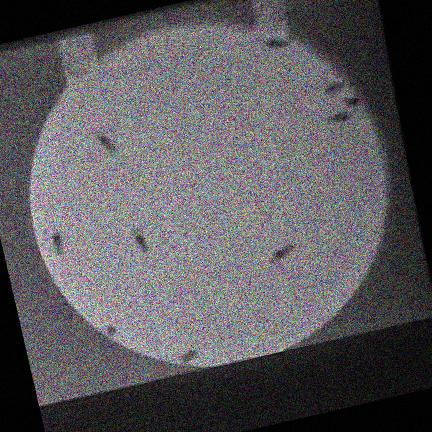fly: (270, 243, 296, 264), (96, 132, 117, 153), (132, 228, 149, 253), (328, 111, 354, 124), (264, 38, 291, 49), (178, 351, 199, 365), (52, 232, 64, 255), (326, 81, 343, 94), (344, 96, 360, 108), (105, 325, 116, 338)
